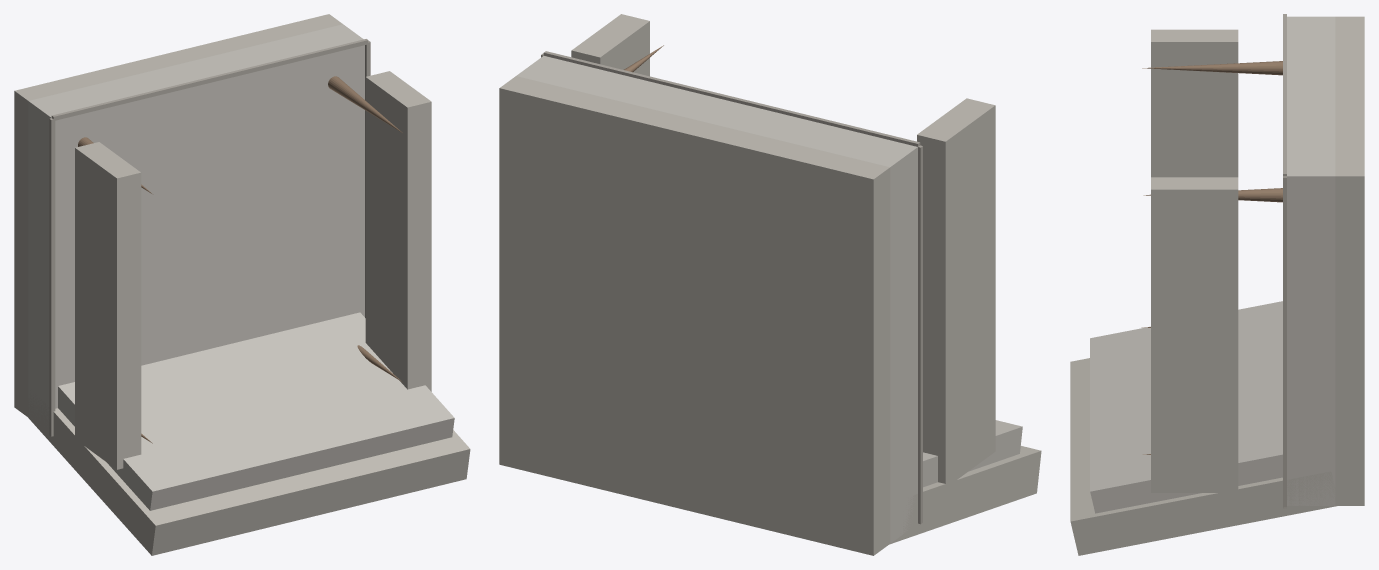
Rendered from cube_demo_chair.glb.
3 views of the same model, side by side, from view 1: azimuth 30°, elevation 25°; view 2: azimuth 150°, elevation 25°; view 3: azimuth 270°, elevation 25° (orthographic). The views are drawn at different scales.
Visible parts, largest first — view 1: world; view 2: world; view 3: world.
Part boxes in pixels (x1,y1,x2,y2): world: [14, 14, 470, 555]; world: [499, 14, 1041, 555]; world: [1070, 14, 1364, 555].
Size of the model in its own units: 0.792 by 0.8695 by 0.6063.
